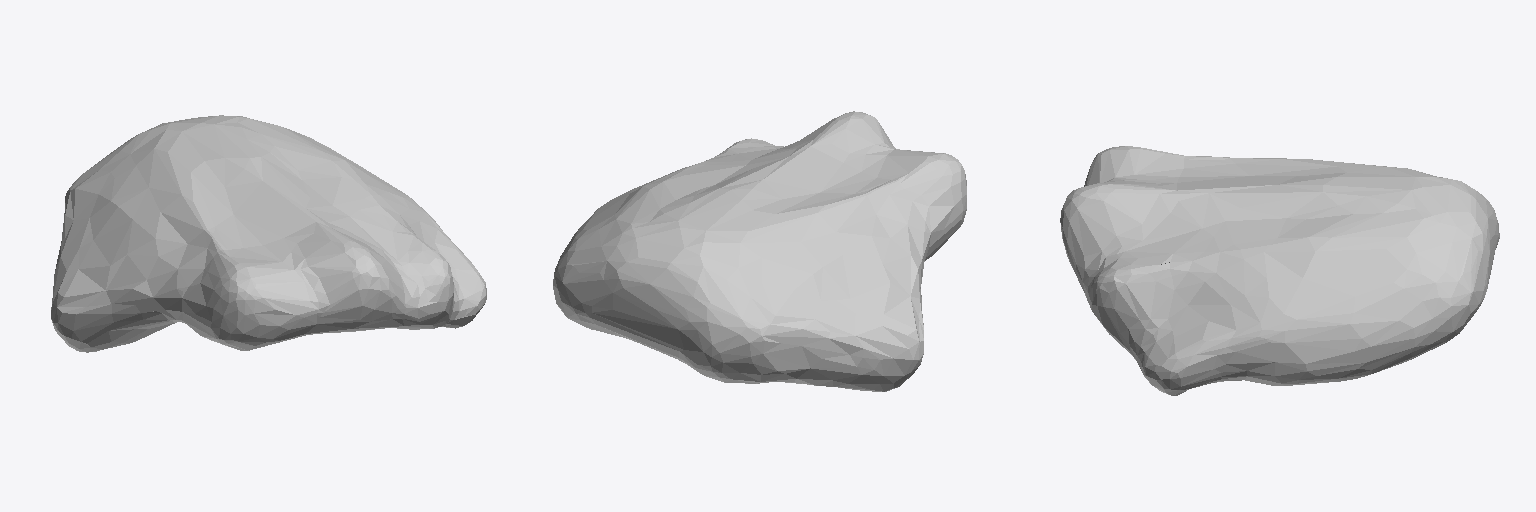
File: HandPalmLeft.obj
3 views of the same model, side by side, from view 1: azimuth 30°, elevation 25°; view 2: azimuth 150°, elevation 25°; view 3: azimuth 270°, elevation 25° (orthographic).
Parts seen in each view (by area): view 1: Cube; view 2: Cube; view 3: Cube.
Part boxes in pixels (x1,y1,x2,y2): Cube: (51,115,486,352); Cube: (553,111,966,391); Cube: (1060,146,1499,395).
Size of the model in its own units: 2.61 by 1.1 by 2.8.